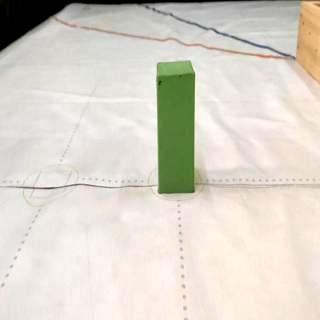greenbox: (156, 61, 196, 196)
